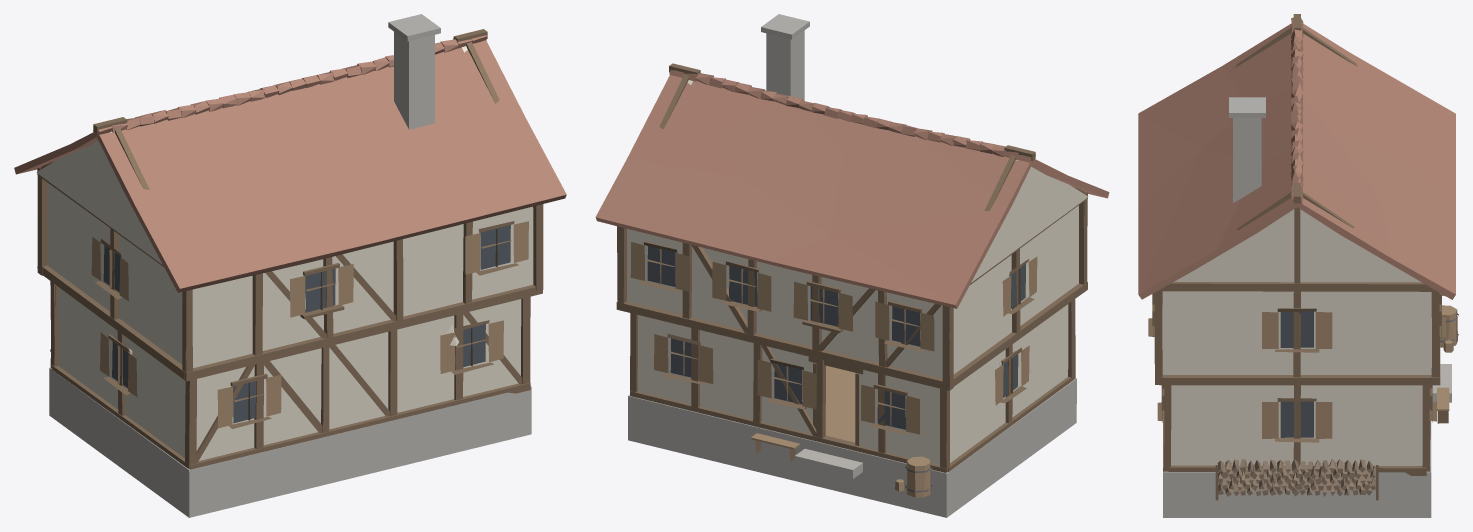
Rendered from house_b_lod1.glb.
3 views of the same model, side by side, from view 1: azimuth 30°, elevation 25°; view 2: azimuth 150°, elevation 25°; view 3: azimuth 270°, elevation 25° (orthographic). The views are drawn at different scales.
Parts seen in each view (by area): view 1: house_b.001; view 2: house_b.001; view 3: house_b.001.
Part boxes in pixels (box(x1,y1,x2,y2)): house_b.001: box(14, 14, 566, 517); house_b.001: box(595, 14, 1109, 517); house_b.001: box(1138, 14, 1458, 517).
Size of the model in its own units: 11.7 by 11.31 by 8.67.
